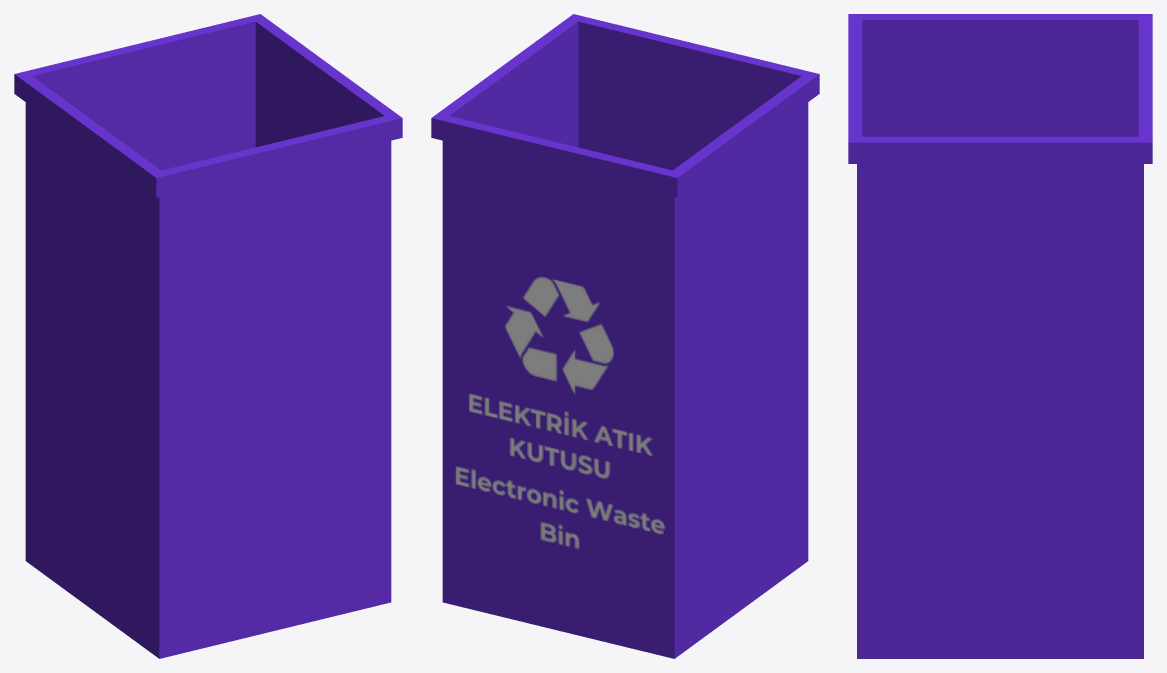
Rendered from electronicWasteBin.fbx.
The picture shows the model from 3 angles, left to right: view 1: azimuth 30°, elevation 25°; view 2: azimuth 150°, elevation 25°; view 3: azimuth 270°, elevation 25°; orthographic projection. The views are drawn at different scales.
Visible parts, largest first — view 1: ElektronicWasteBin; view 2: ElektronicWasteBin; view 3: ElektronicWasteBin.
Part boxes in pixels (box(x1,y1,x2,y2)): ElektronicWasteBin: box(14, 14, 402, 658); ElektronicWasteBin: box(431, 14, 819, 658); ElektronicWasteBin: box(848, 14, 1152, 658).
Bounding box in the file's own units: 0.3713 × 0.3713 × 0.7.
